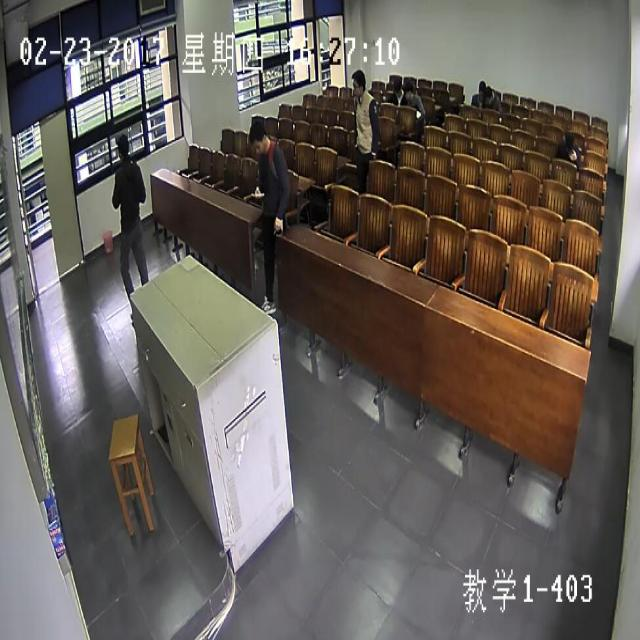person: (248, 113, 271, 153), (114, 134, 131, 159), (350, 71, 367, 96), (562, 131, 574, 156), (404, 78, 414, 100), (392, 75, 402, 94), (484, 84, 494, 103), (476, 80, 486, 98)
